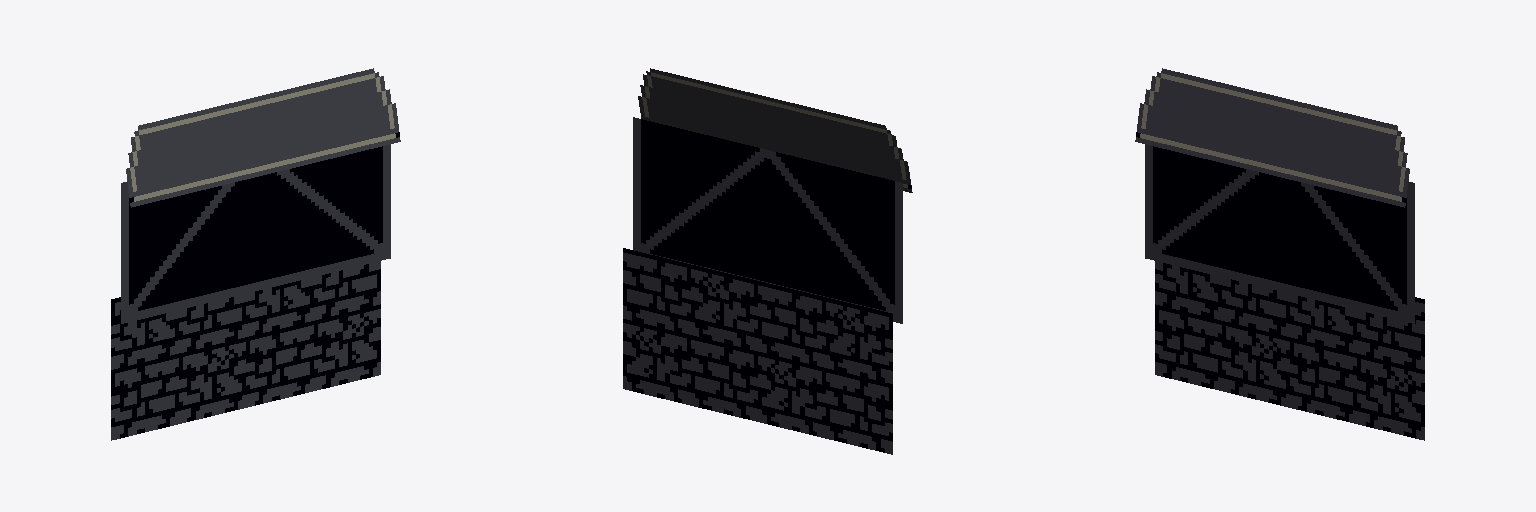
The picture shows the model from 3 angles: view 1: azimuth 30°, elevation 25°; view 2: azimuth 150°, elevation 25°; view 3: azimuth 330°, elevation 25°; orthographic projection.
Parts seen in each view (by area): view 1: Default; view 2: Default; view 3: Default.
Part boxes in pixels (x1,y1,x2,y2): Default: (111,68,400,440); Default: (623,68,912,454); Default: (1135,68,1424,440).
Bounding box in the file's own units: 4 × 4.5 × 0.5.
Materials: 1 (1 with a texture image).